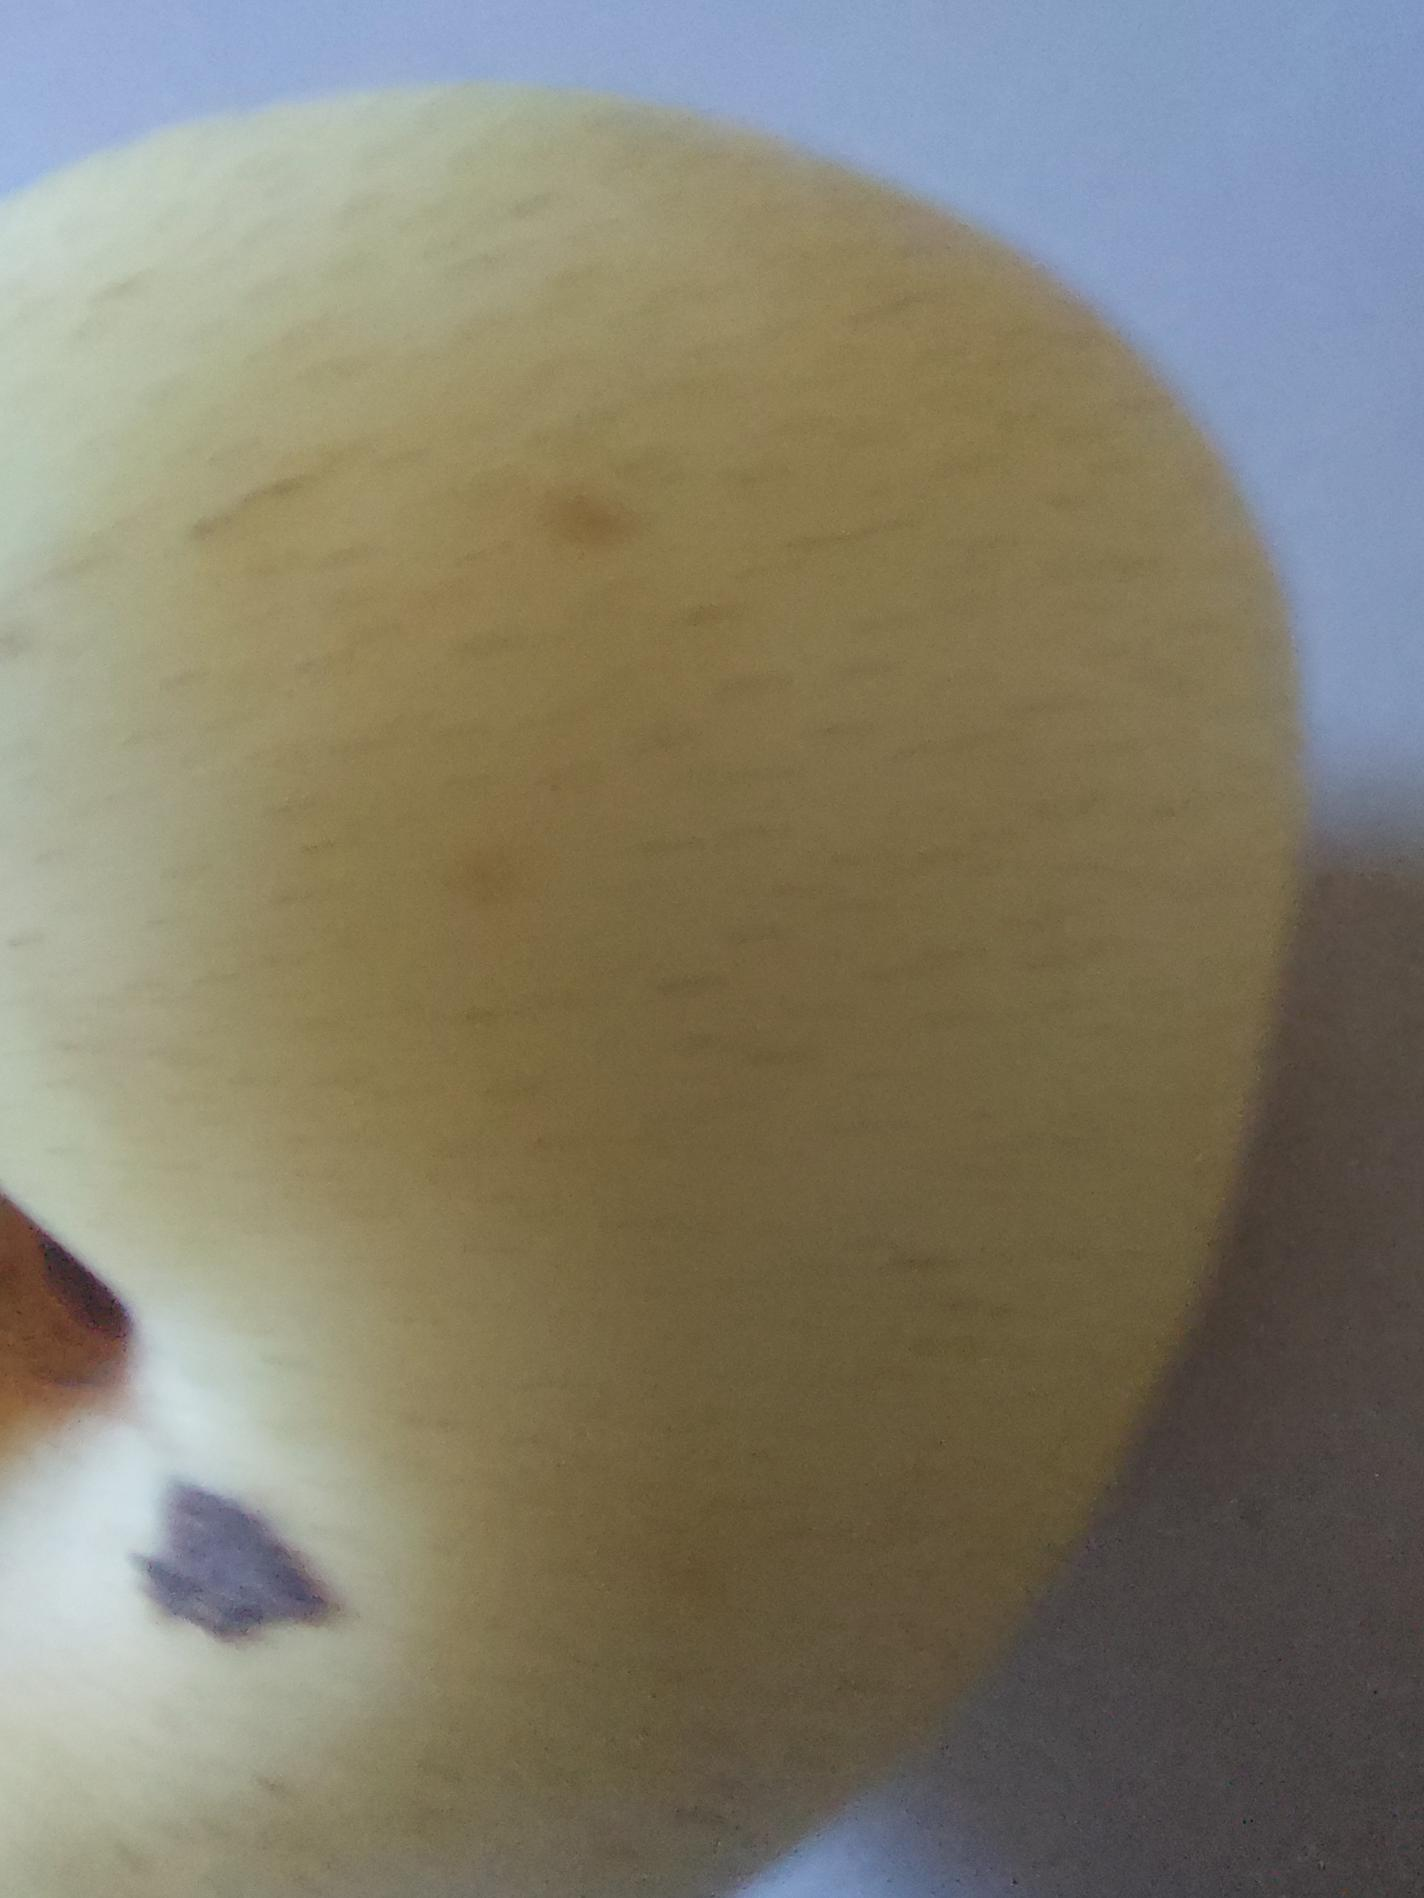Good Pear: (0, 54, 1325, 1898)
